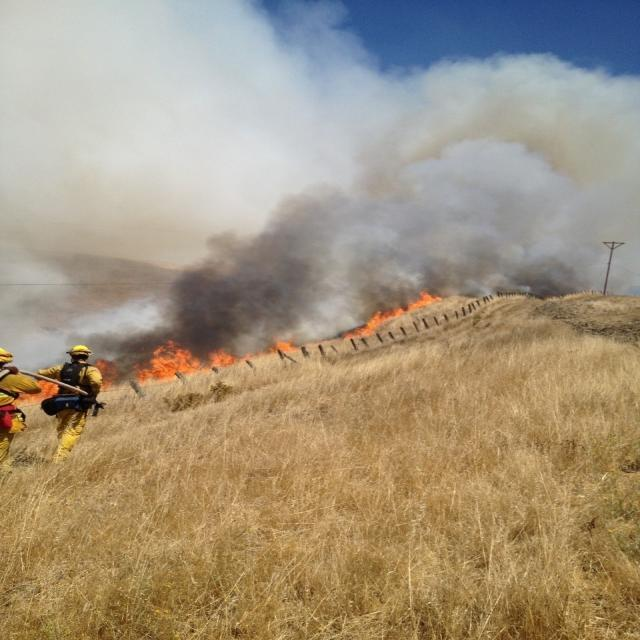Fire: (108, 331, 240, 383)
Smoke: (0, 137, 591, 342)
